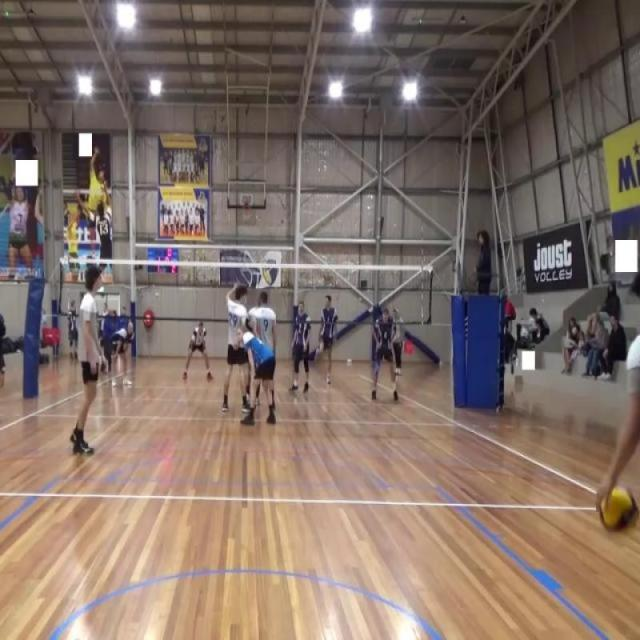volleyball: (597, 480, 639, 543)
